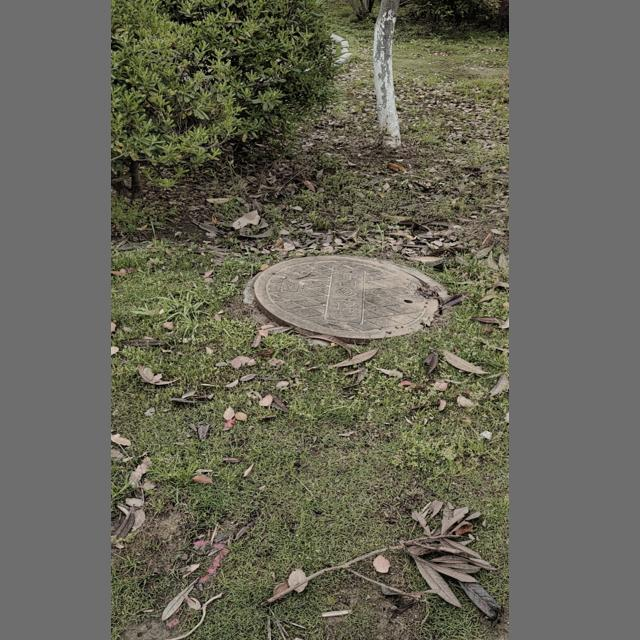uncovered: (242, 257, 452, 343)
